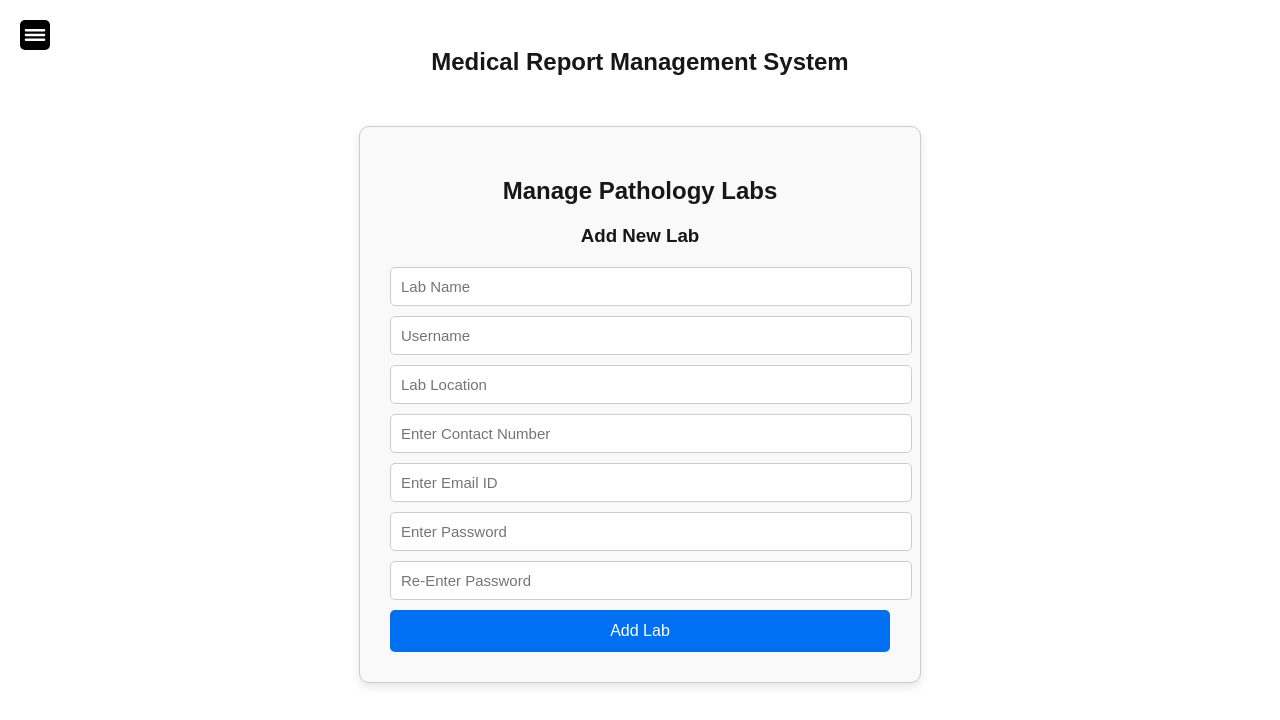
Test: ManageLab Component › shows username already exists error in the second form
The width and height of the screenshot is (1280, 720).
Type "existingLab" into the field with placeholder "Username".
click(651, 335); type("existingLab")  # box x1=390 y1=316 x2=912 y2=355
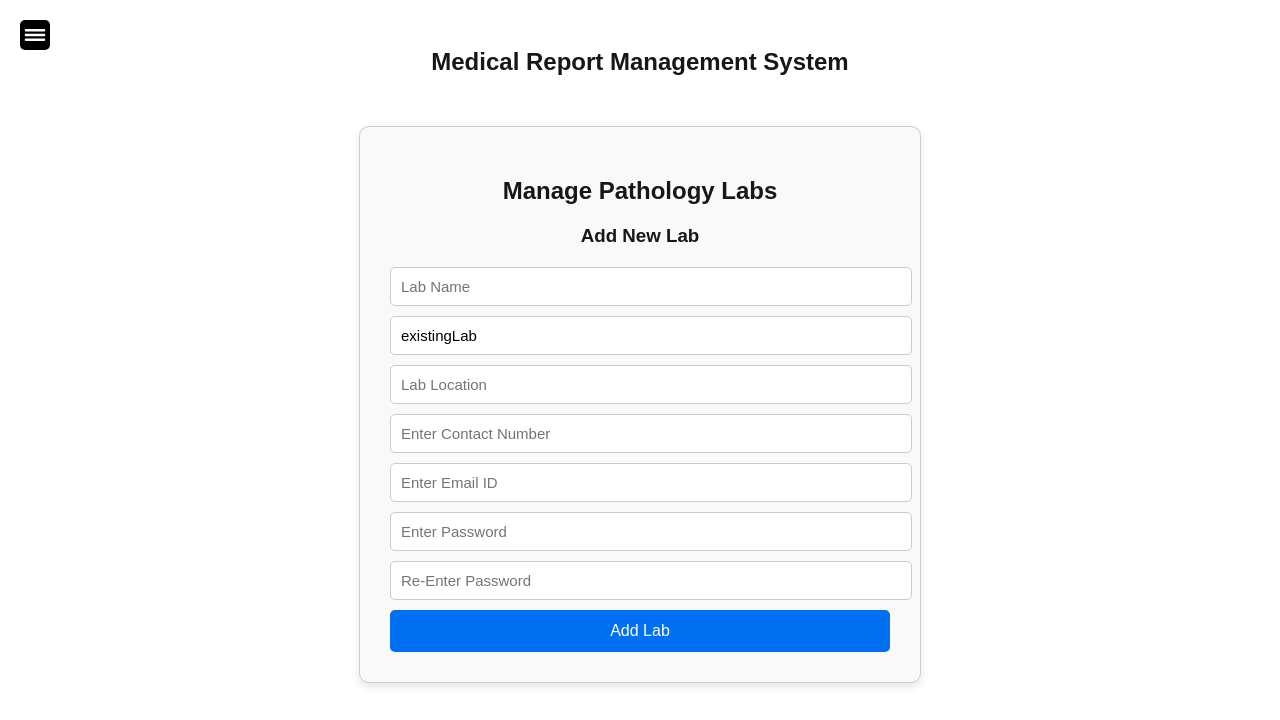
Type "password123" into the password field with placeholder "Enter Password".
click(651, 531); type("password123")  # box x1=390 y1=512 x2=912 y2=551
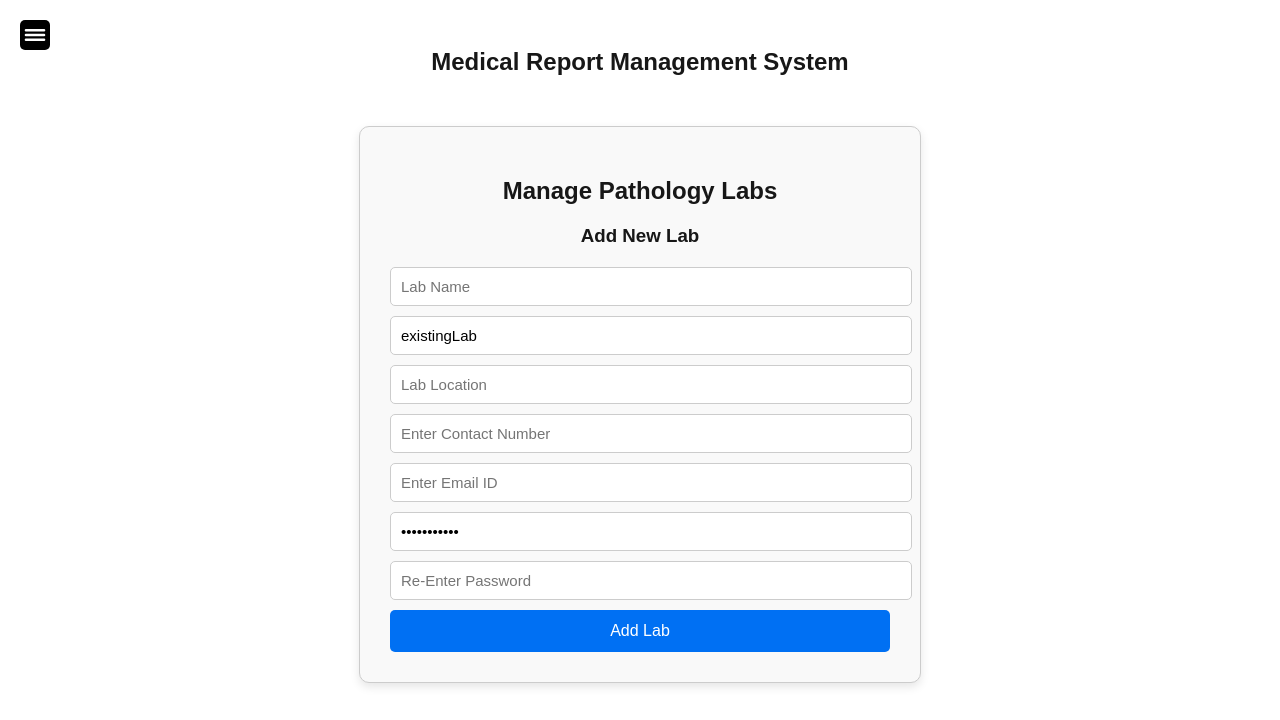
Type "password123" into the password field with placeholder "Re-Enter Password".
click(651, 580); type("password123")  # box x1=390 y1=561 x2=912 y2=600
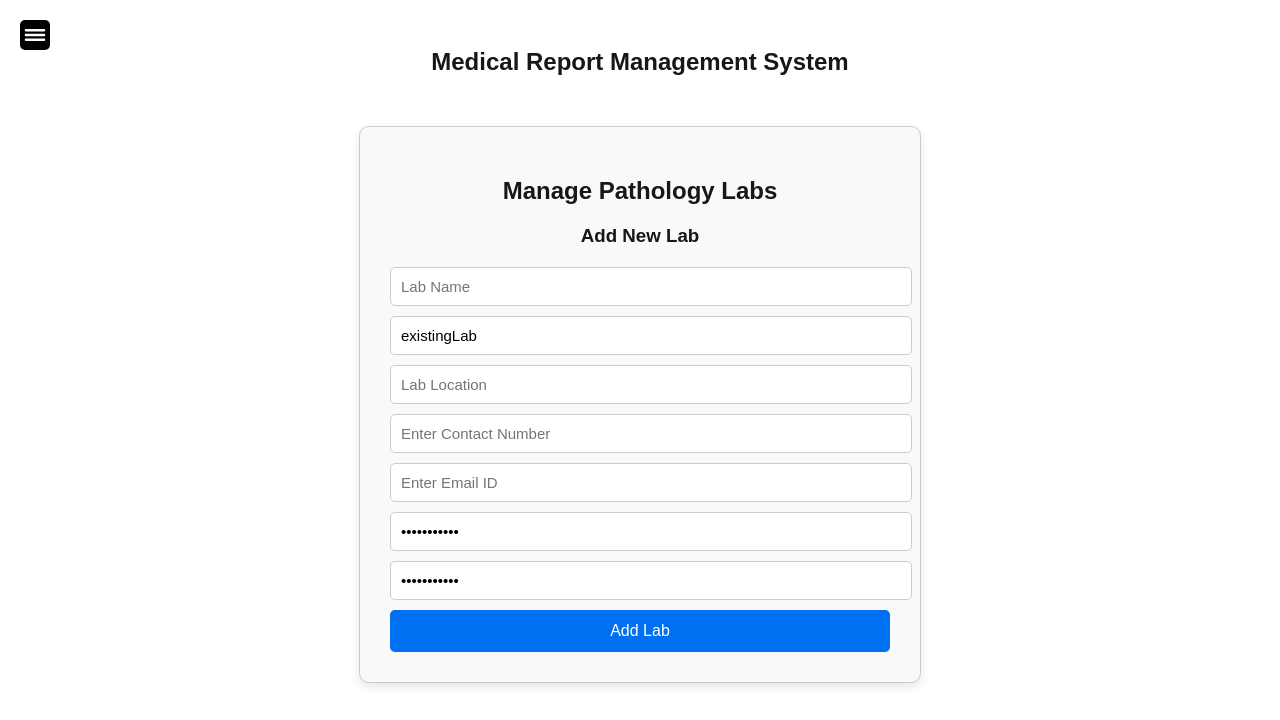
Click the button "Add Lab".
click(640, 631)  # box x1=390 y1=610 x2=890 y2=652
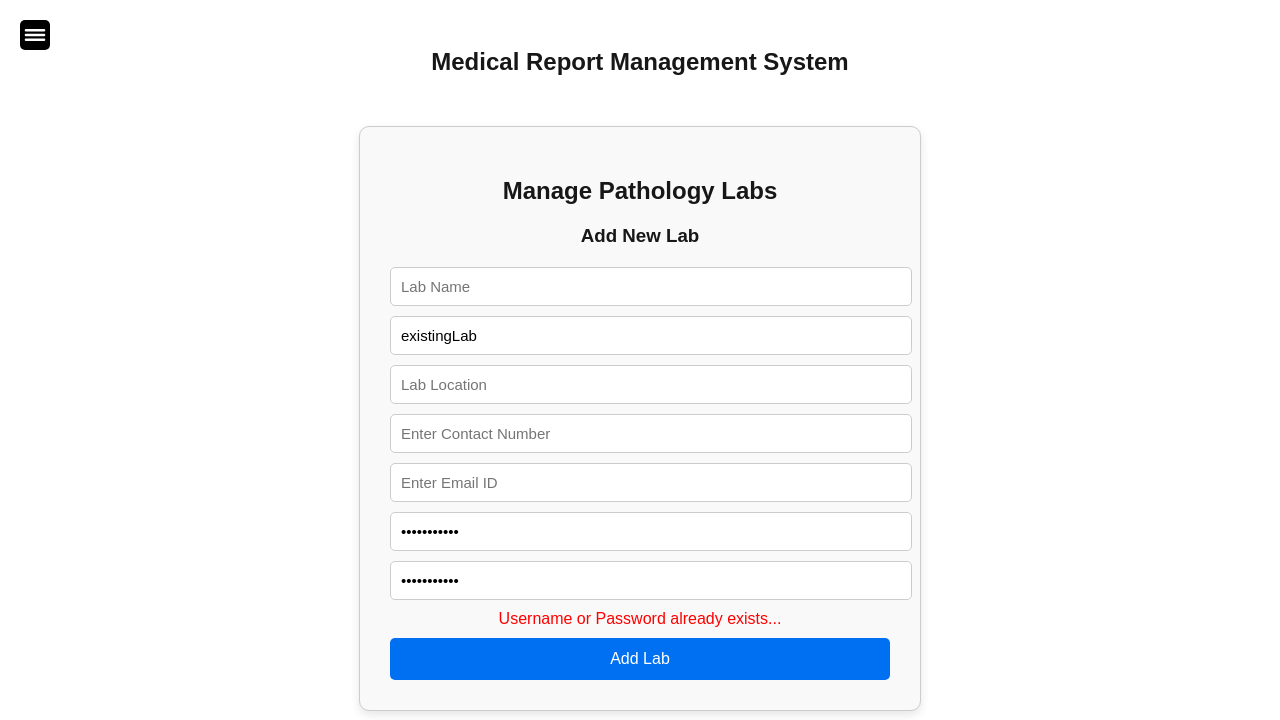
Check: the text "Username or Password already exists..." is shown, box x1=499 y1=610 x2=781 y2=627
